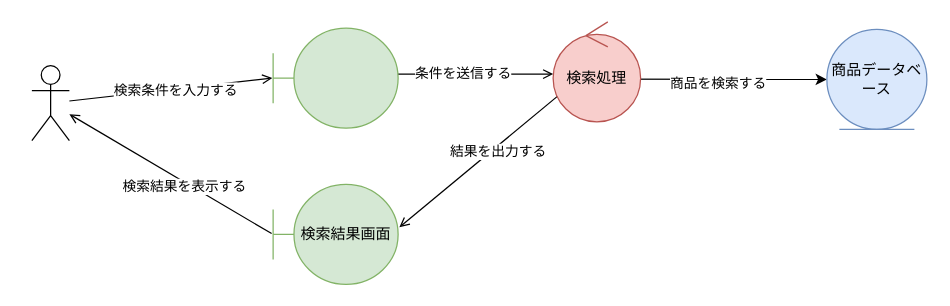
Some shapes in this 950 by 306 pixel diagram are drawn without their labels. The centre of each missing label's shape, as x and y in pixels:
ユーザー: pixel 50 102
検索画面: pixel 335 77
